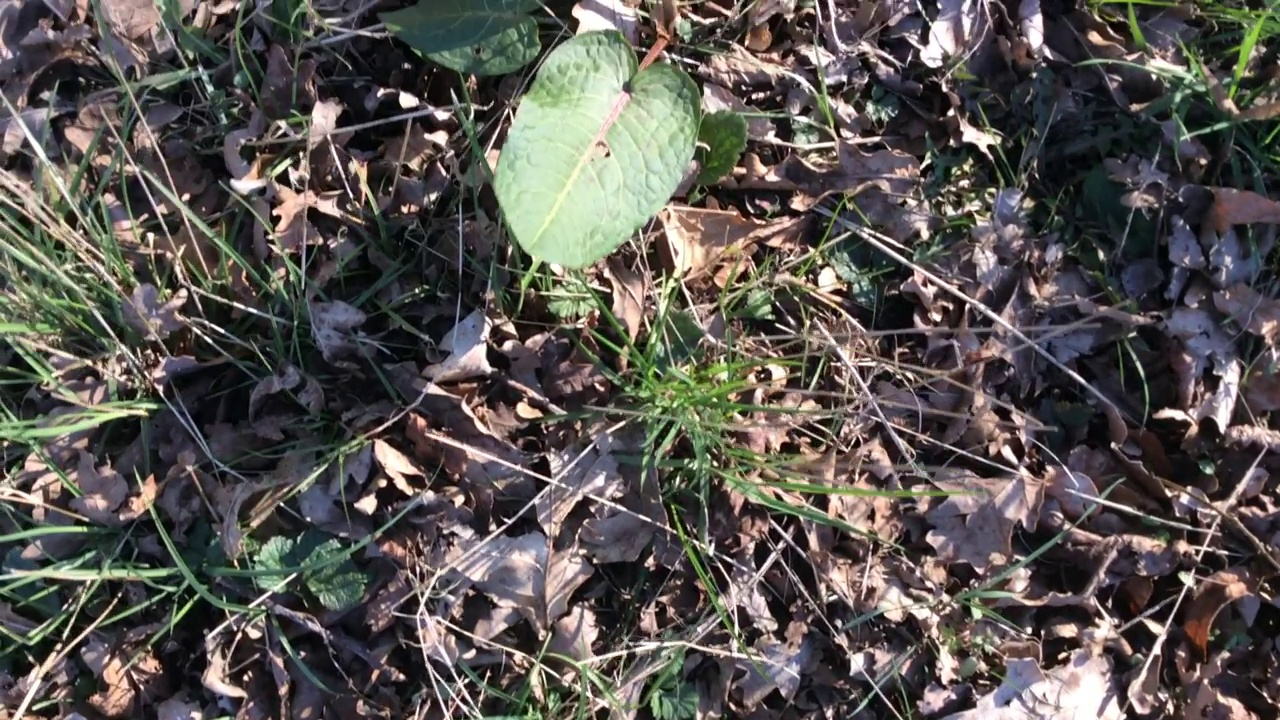rumex: (387, 1, 746, 271)
